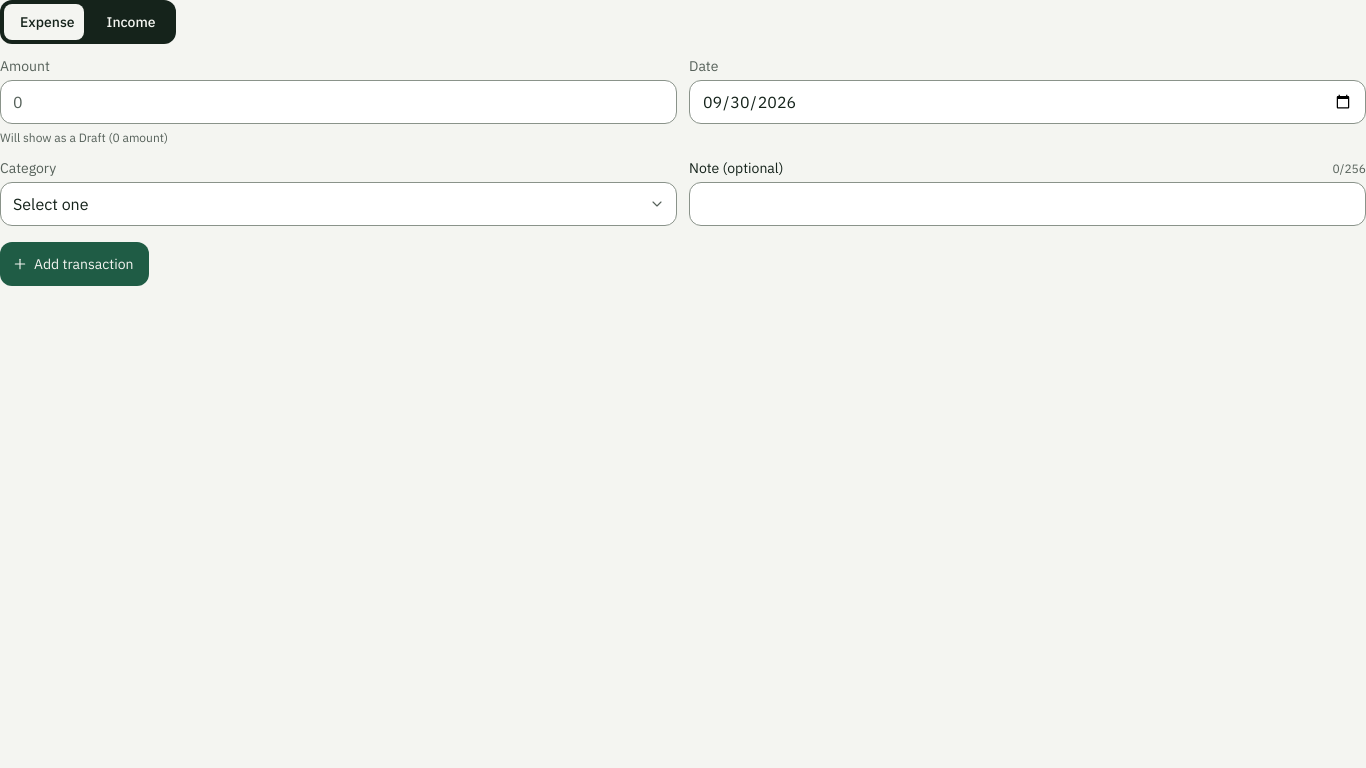
Test: TransactionForm category creation › opens a modal with a name field when "+ Add new category…" is selected
Step 1. Select "+ Add new category…" in the dropdown → x=338, y=204, box x1=0 y1=182 x2=677 y2=226
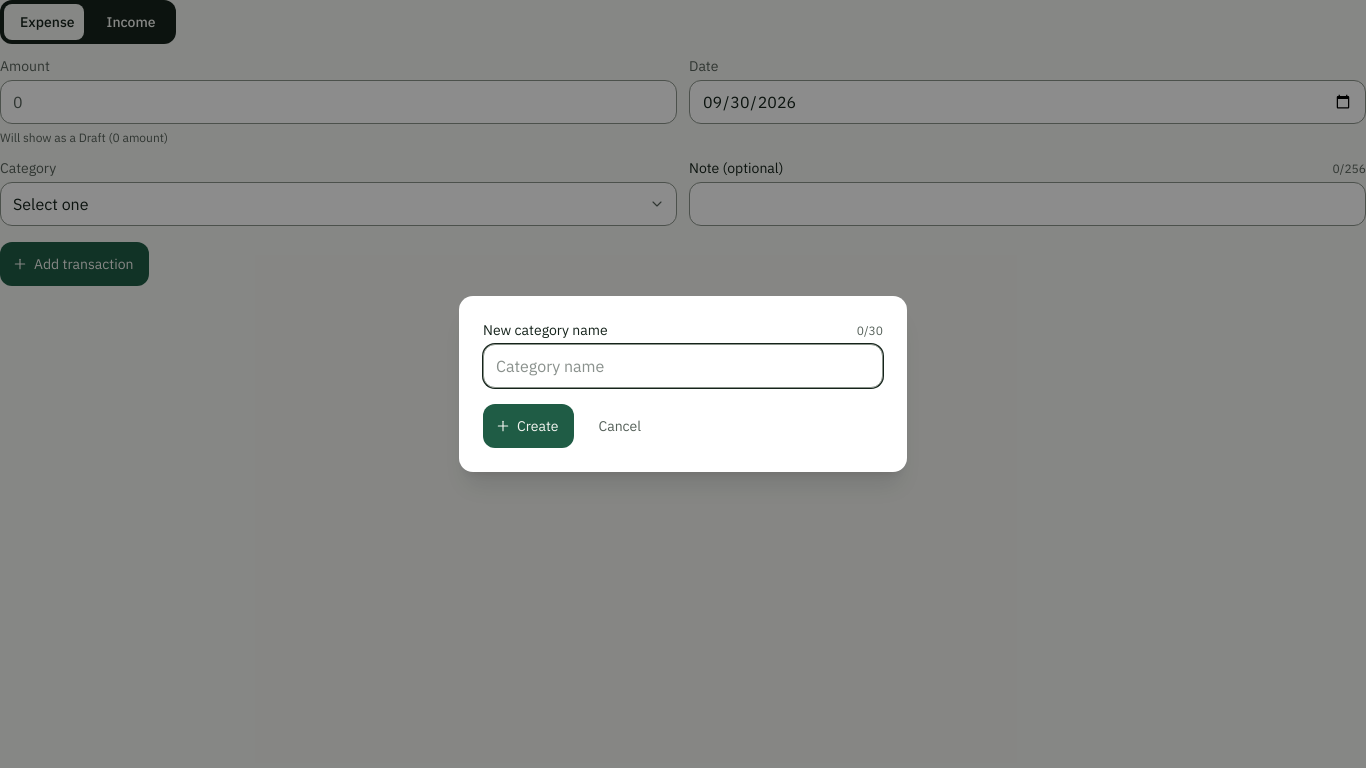
Now the text "New category name" is shown, box x1=483 y1=320 x2=608 y2=340
Now the field with placeholder "category name" is shown, box x1=483 y1=344 x2=883 y2=388
